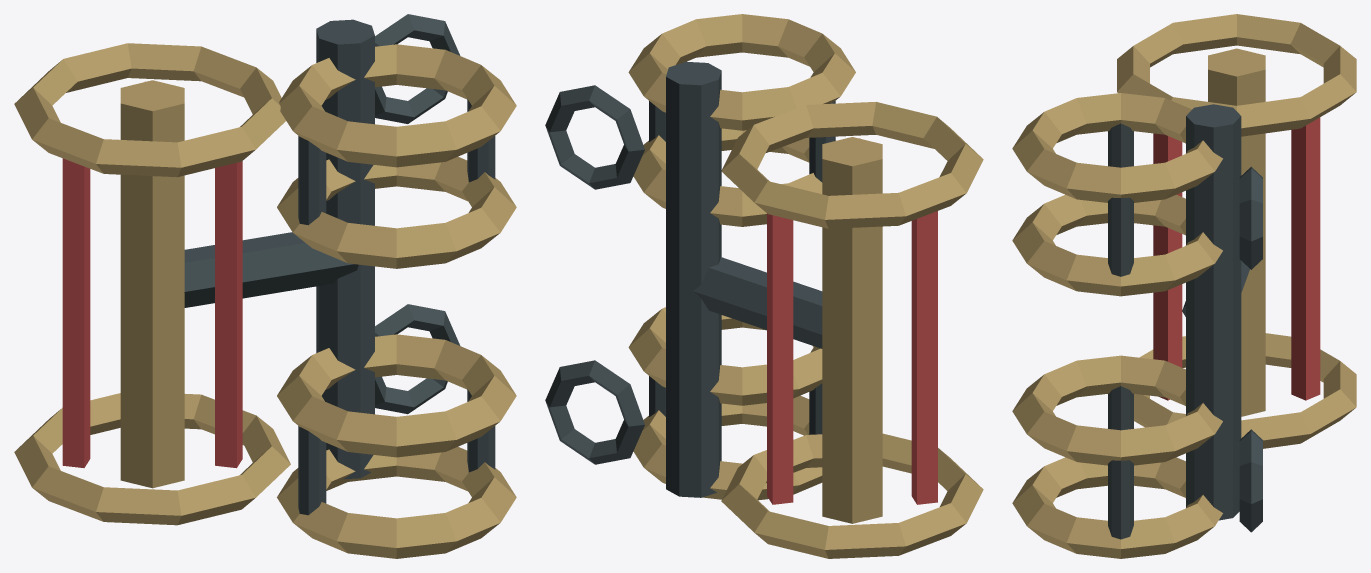
Rendered from Arsenal_BloodSpindle.fbx.
3 views of the same model, side by side, from view 1: azimuth 30°, elevation 25°; view 2: azimuth 150°, elevation 25°; view 3: azimuth 270°, elevation 25° (orthographic). The views are drawn at different scales.
Parts seen in each view (by area): view 1: Arsenal_BloodSpindle; view 2: Arsenal_BloodSpindle; view 3: Arsenal_BloodSpindle.
Part boxes in pixels (left/top/right/bottom): Arsenal_BloodSpindle: left=14, top=14, right=516, bottom=558; Arsenal_BloodSpindle: left=545, top=14, right=983, bottom=558; Arsenal_BloodSpindle: left=1012, top=14, right=1356, bottom=558.
Bounding box in the file's own units: 0.315 × 0.309 × 0.2377.
